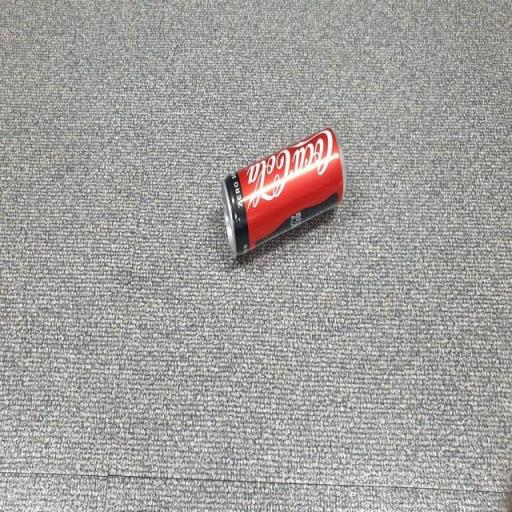metal: (214, 123, 354, 276)
